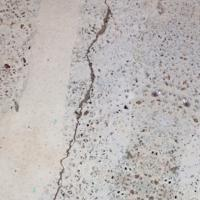crack: (45, 0, 115, 199)
